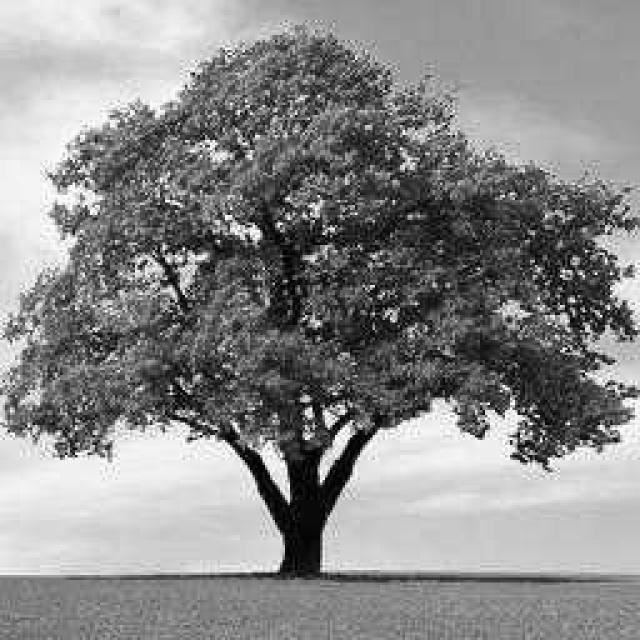Tree: (3, 28, 638, 573)
